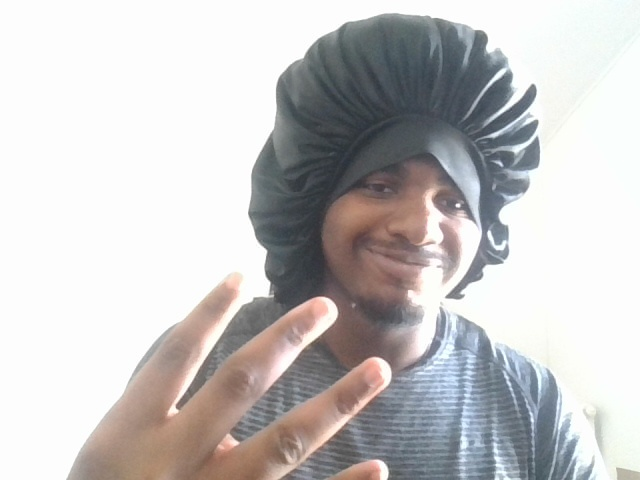I am Better Than Yu: (59, 262, 393, 480)
